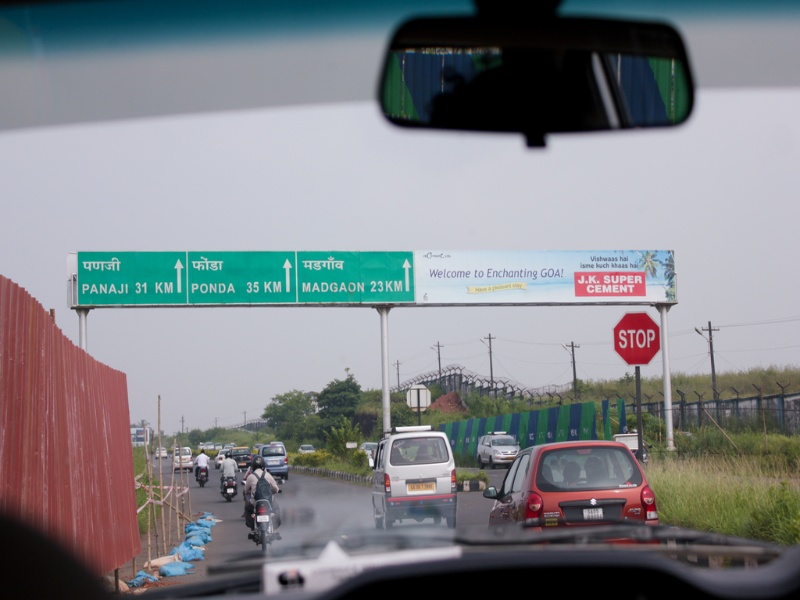stop: (609, 309, 663, 366)
straight_direction: (172, 256, 185, 296), (281, 257, 295, 293), (401, 256, 413, 293)
